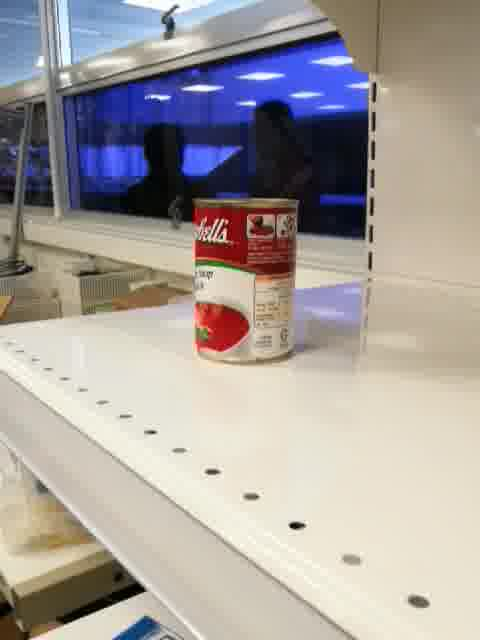tomatosoup: (191, 194, 302, 365)
